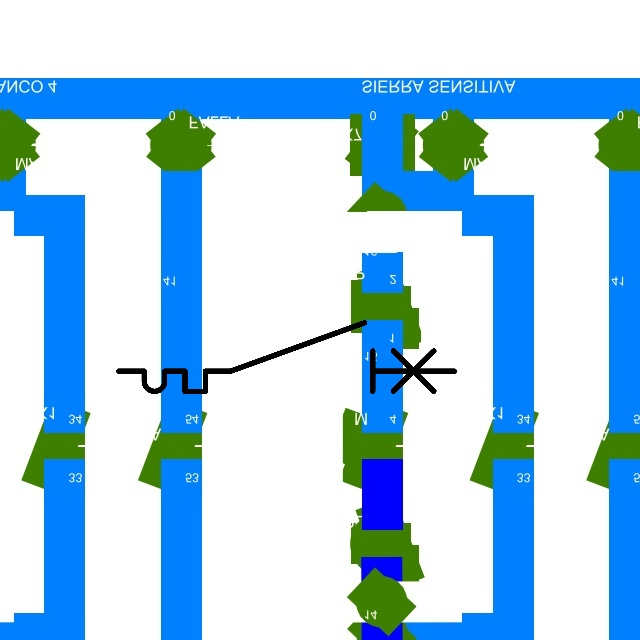interruptor_termomagnetico: (110, 314, 463, 400)
